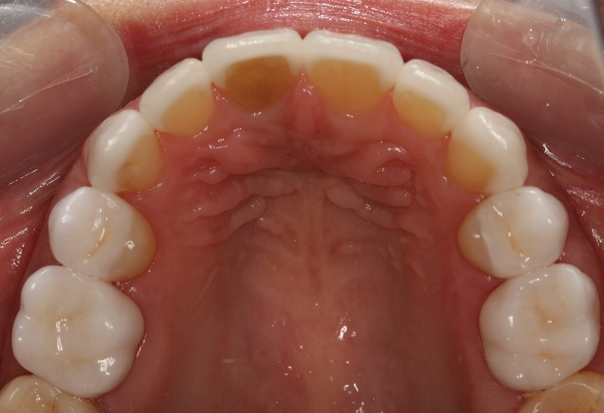UL1BC_healthy: (455, 198, 572, 266)
UL2BC_healthy: (475, 279, 598, 376)
ULCI_decay: (304, 25, 400, 115)
ULC_healthy: (459, 110, 523, 191)
ULLI_healthy: (397, 62, 466, 135)
UR1BC_healthy: (50, 195, 160, 277)
UR2BC_healthy: (17, 275, 145, 382)
URCI_decay: (204, 27, 303, 108)
URC_decay: (82, 112, 164, 192)
URLI_decay: (145, 63, 216, 140)
